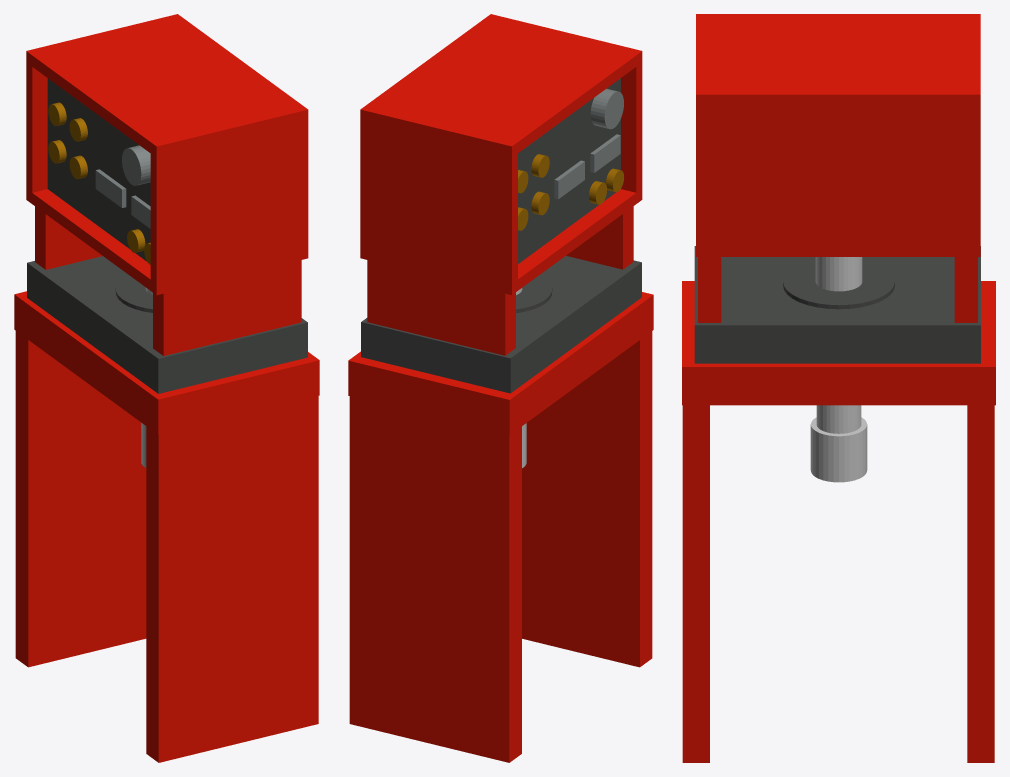
The model's file is kapak makinesi.fbx.
3 renders of one model, left to right at view 1: azimuth 30°, elevation 25°; view 2: azimuth 150°, elevation 25°; view 3: azimuth 270°, elevation 25°, orthographic. The views are drawn at different scales.
Parts seen in each view (by area): view 1: Cube.002; view 2: Cube.002; view 3: Cube.002, Cylinder.003.
Part boxes in pixels (left/top/right/bottom): Cube.002: left=14, top=14, right=319, bottom=762; Cube.002: left=348, top=14, right=653, bottom=762; Cube.002: left=682, top=14, right=995, bottom=762; Cylinder.003: left=810, top=405, right=867, bottom=482.
Size of the model in its own units: 249 by 902 by 385.
